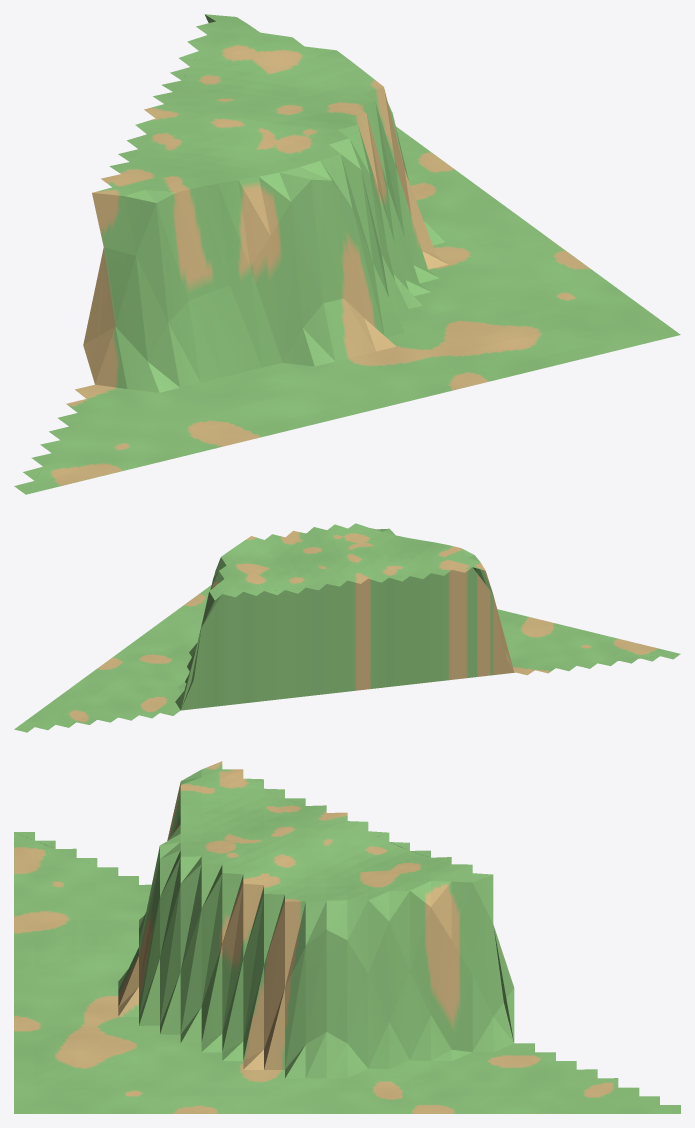
File: Grass_Hills_12_NE.obj
3 renders of one model, top to bottom at view 1: azimuth 30°, elevation 25°; view 2: azimuth 150°, elevation 25°; view 3: azimuth 270°, elevation 25°, orthographic. The views are drawn at different scales.
Size of the model in its own units: 10 by 2.54 by 10.
Materials: 1 (1 with a texture image).
